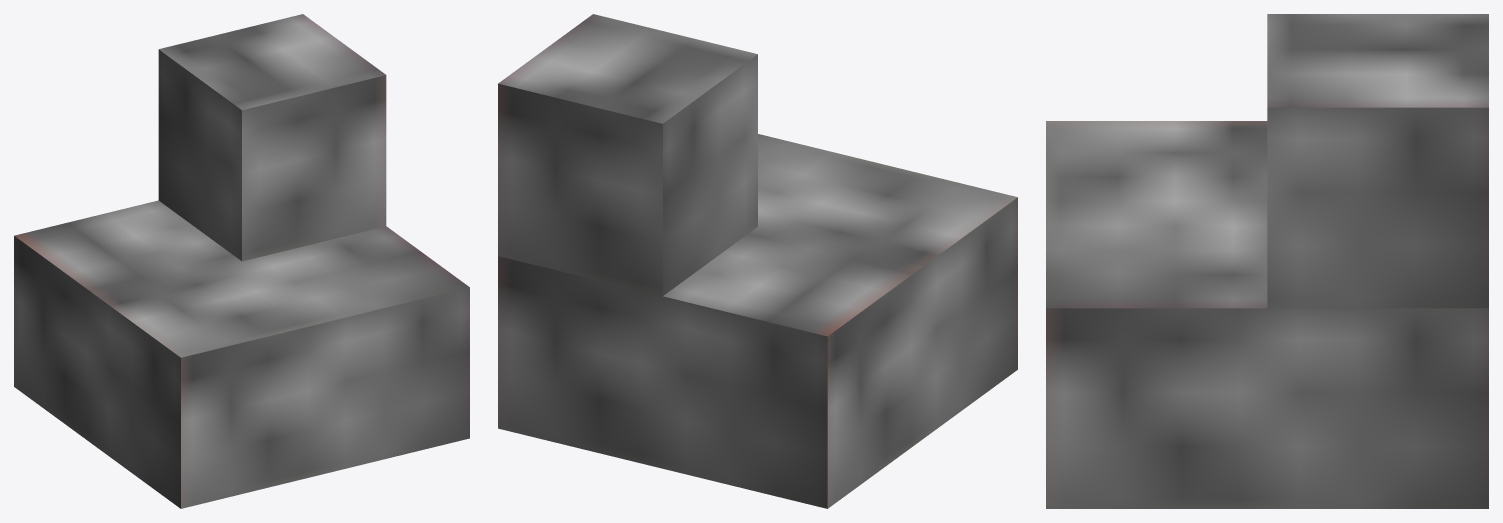
The model's file is Coblestone_Stair_2_Block.fbx.
3 renders of one model, left to right at view 1: azimuth 30°, elevation 25°; view 2: azimuth 150°, elevation 25°; view 3: azimuth 270°, elevation 25°, orthographic. The views are drawn at different scales.
Visible parts, largest first — view 1: Coblestone_Stair_2_Block; view 2: Coblestone_Stair_2_Block; view 3: Coblestone_Stair_2_Block.
Part boxes in pixels (box(x1,y1,x2,y2)): Coblestone_Stair_2_Block: box(14, 14, 469, 508); Coblestone_Stair_2_Block: box(498, 14, 1017, 508); Coblestone_Stair_2_Block: box(1046, 14, 1488, 508).
Size of the model in its own units: 25 by 25 by 25.
1 material, 1 textured.
